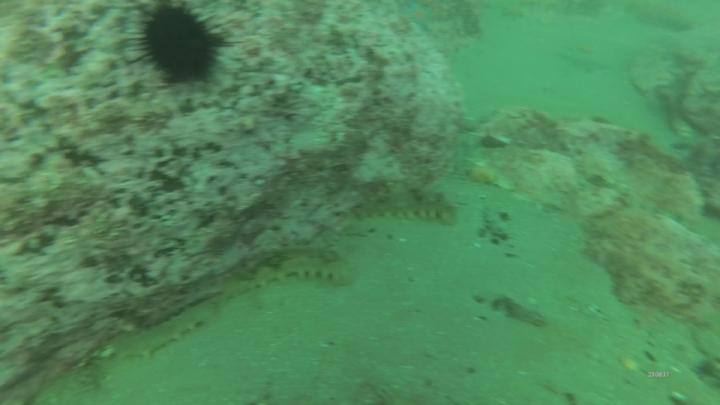echinus: (137, 4, 223, 88)
holothurian: (205, 241, 357, 298), (105, 303, 229, 360), (344, 192, 462, 231)
starfish: (403, 3, 436, 36)
